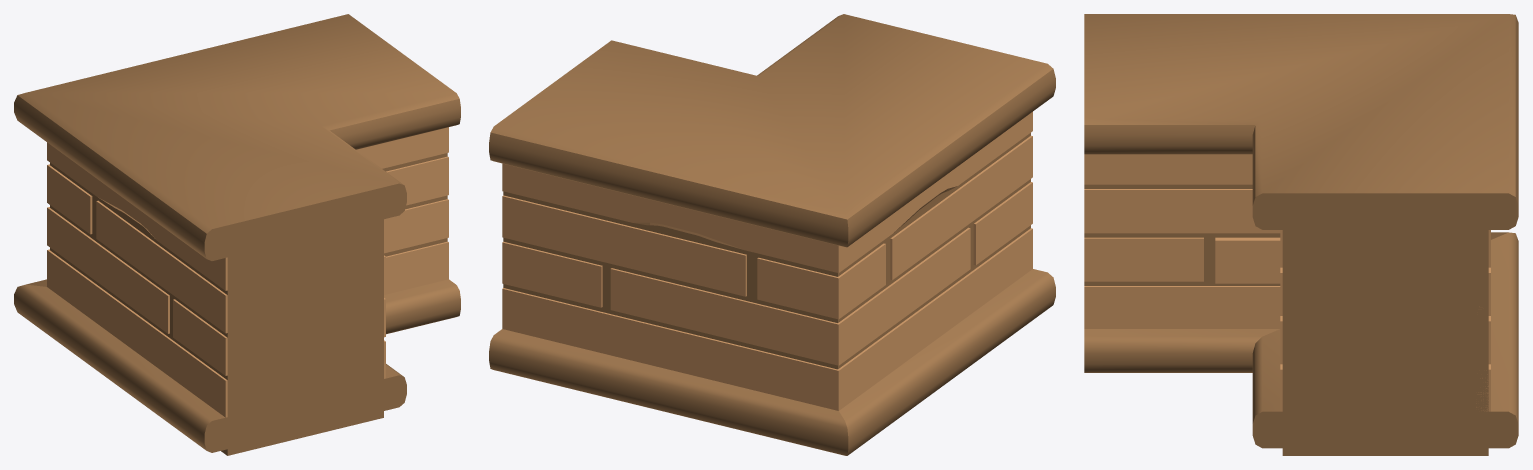
Rendered from Environment_Counter_Corner.fbx.
3 renders of one model, left to right at view 1: azimuth 30°, elevation 25°; view 2: azimuth 150°, elevation 25°; view 3: azimuth 270°, elevation 25°, orthographic. The views are drawn at different scales.
Visible parts, largest first — view 1: Environment_Counter_Corner; view 2: Environment_Counter_Corner; view 3: Environment_Counter_Corner.
Part boxes in pixels (left/top/right/bottom): Environment_Counter_Corner: left=14, top=14, right=460, bottom=455; Environment_Counter_Corner: left=489, top=14, right=1055, bottom=455; Environment_Counter_Corner: left=1084, top=14, right=1518, bottom=455.
Size of the model in its own units: 288 by 192 by 288.
